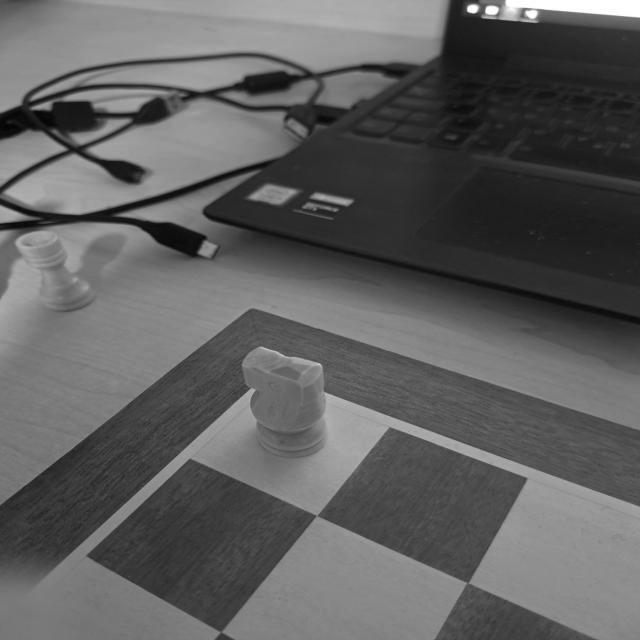chess-table-corners: (225, 368, 352, 424)
